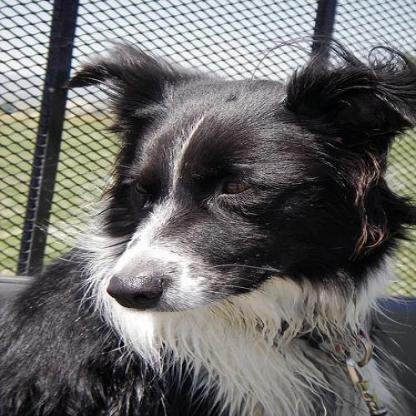collie: (0, 41, 413, 414)
